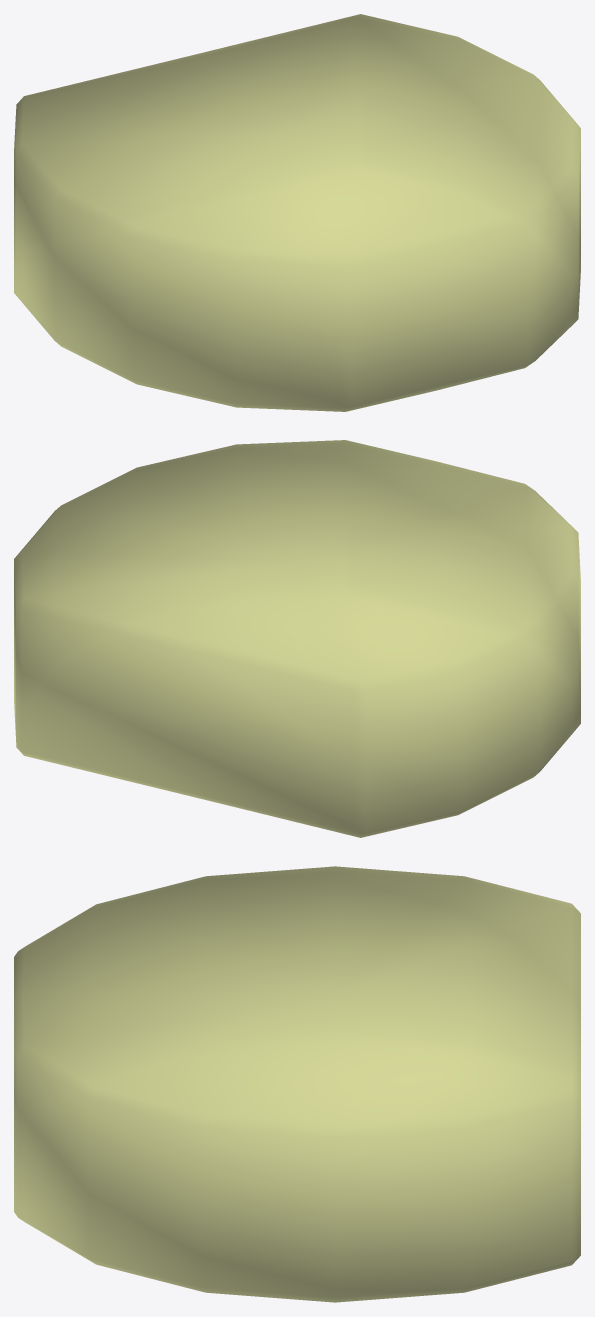
File: MeshSoapBottleVolume_24_1.obj
3 renders of one model, top to bottom at view 1: azimuth 30°, elevation 25°; view 2: azimuth 150°, elevation 25°; view 3: azimuth 270°, elevation 25°, orthographic. The views are drawn at different scales.
Parts seen in each view (by area): view 1: SoapBottleVolume_24; view 2: SoapBottleVolume_24; view 3: SoapBottleVolume_24.
Boxes of the visible parts, bbox=[...] form: SoapBottleVolume_24: bbox=[14, 14, 580, 411]; SoapBottleVolume_24: bbox=[14, 440, 580, 837]; SoapBottleVolume_24: bbox=[14, 866, 580, 1302].
Bounding box in the file's own units: 0.1441 × 0.0445 × 0.1294.
